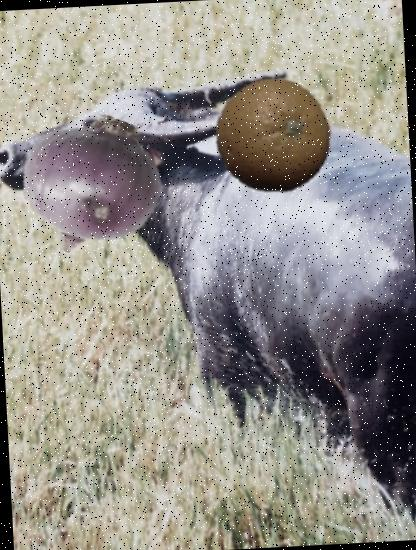Onion: (15, 110, 166, 262)
Orange: (211, 74, 336, 200)
